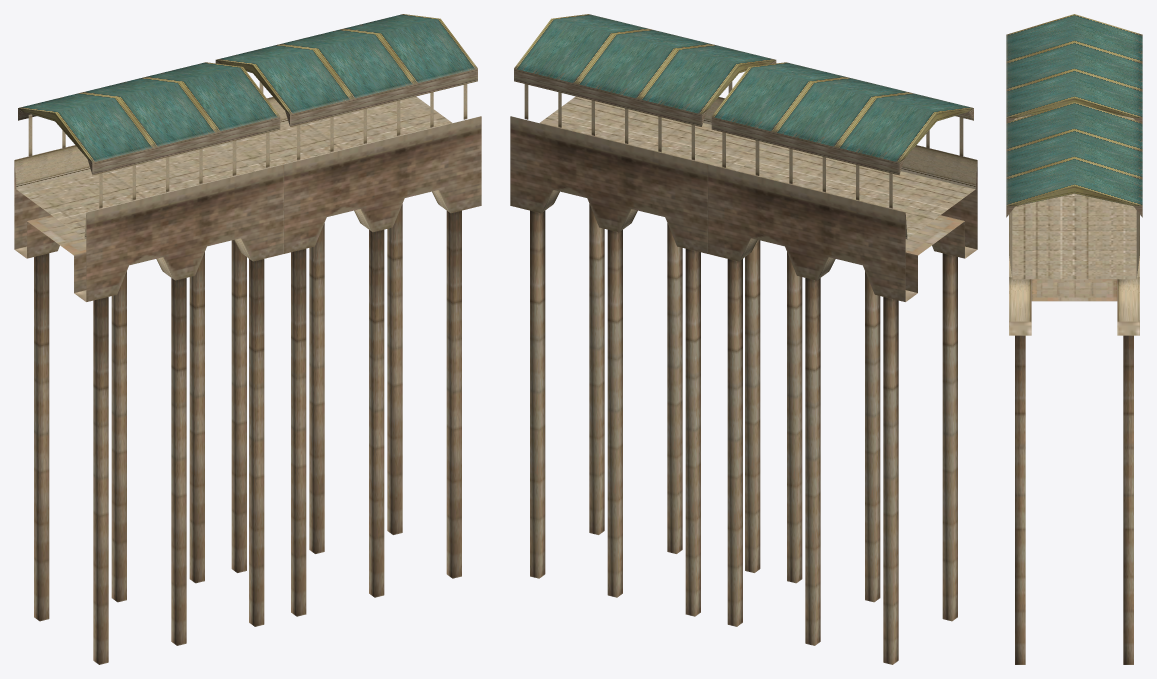
File: thm_nboo_imprv_enclosed_walkway_s02_l3.fbx
3 views of the same model, side by side, from view 1: azimuth 30°, elevation 25°; view 2: azimuth 150°, elevation 25°; view 3: azimuth 270°, elevation 25° (orthographic). The views are drawn at different scales.
Visible parts, largest first — view 1: mesh_node; view 2: mesh_node; view 3: mesh_node.
Part boxes in pixels (left/top/right/bottom): mesh_node: left=14, top=14, right=481, bottom=664; mesh_node: left=510, top=14, right=977, bottom=664; mesh_node: left=1006, top=14, right=1142, bottom=664.
Bounding box in the file's own units: 16.5 × 21.18 × 5.39.
